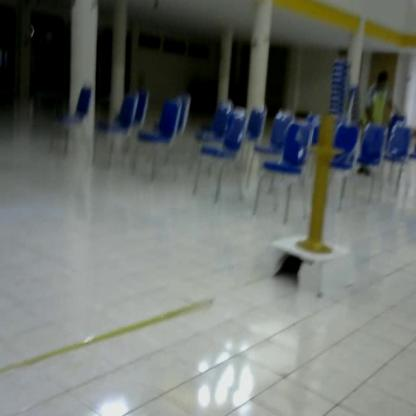pole: (294, 108, 351, 262)
